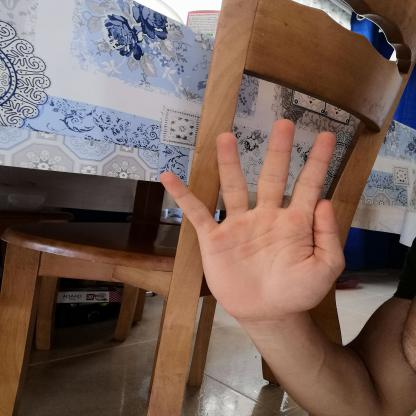SHEEN: (148, 112, 355, 327)
